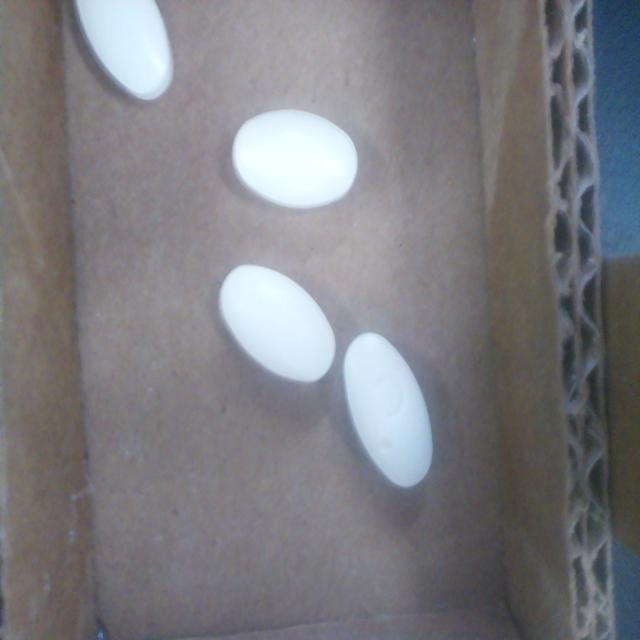pill: (342, 332, 433, 488), (219, 264, 336, 382), (232, 109, 358, 209), (73, 0, 173, 100)
